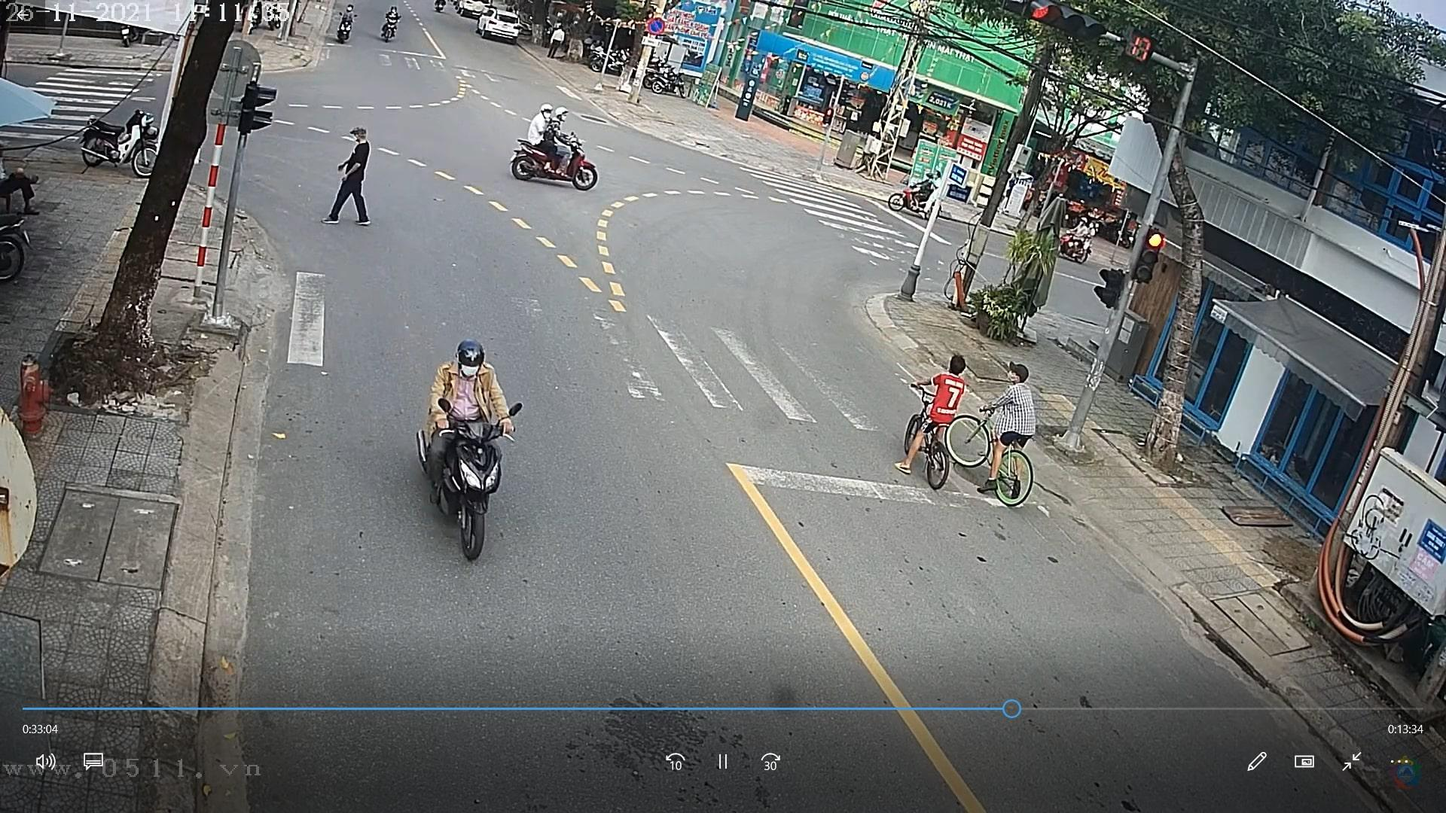motorbike: (416, 384, 524, 568)
